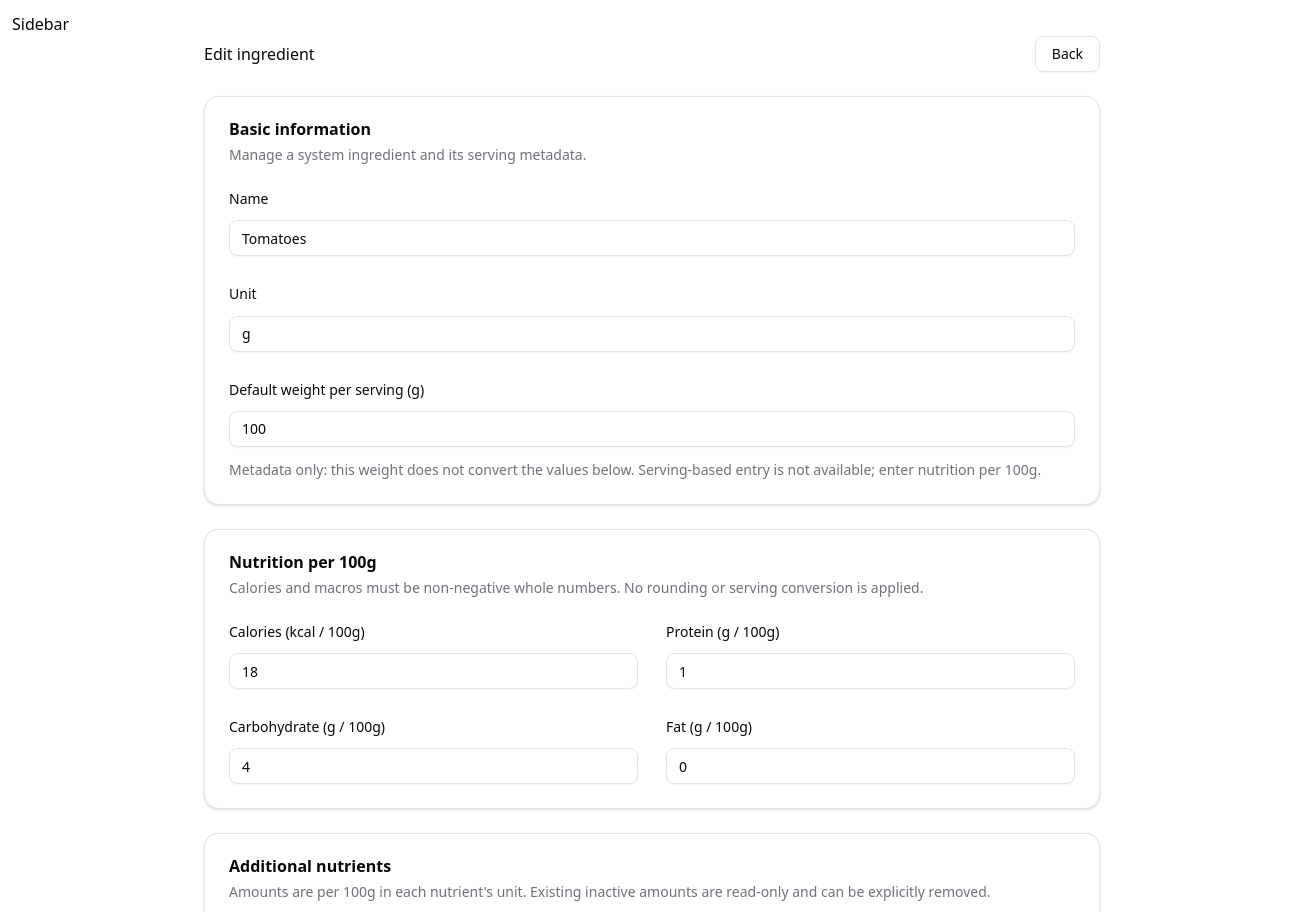
IngredientFormPage › retains dirty draft through a real RTK detail refetch
In the field labelled "Name": (652,238) [229,220,1075,256], type " draft"
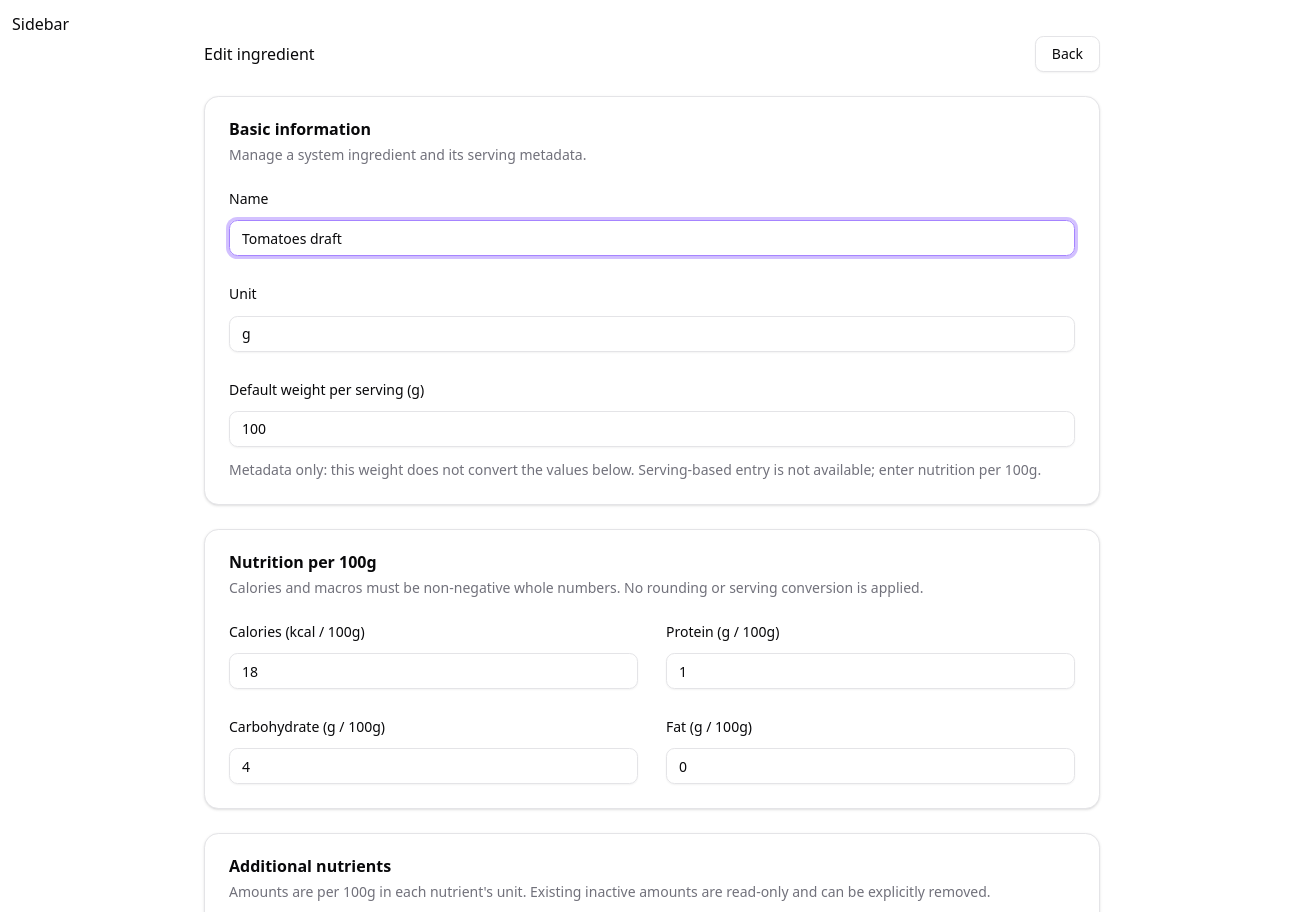
Now the field labelled "Name" holds "Tomatoes draft", box [229,220,1075,256]
